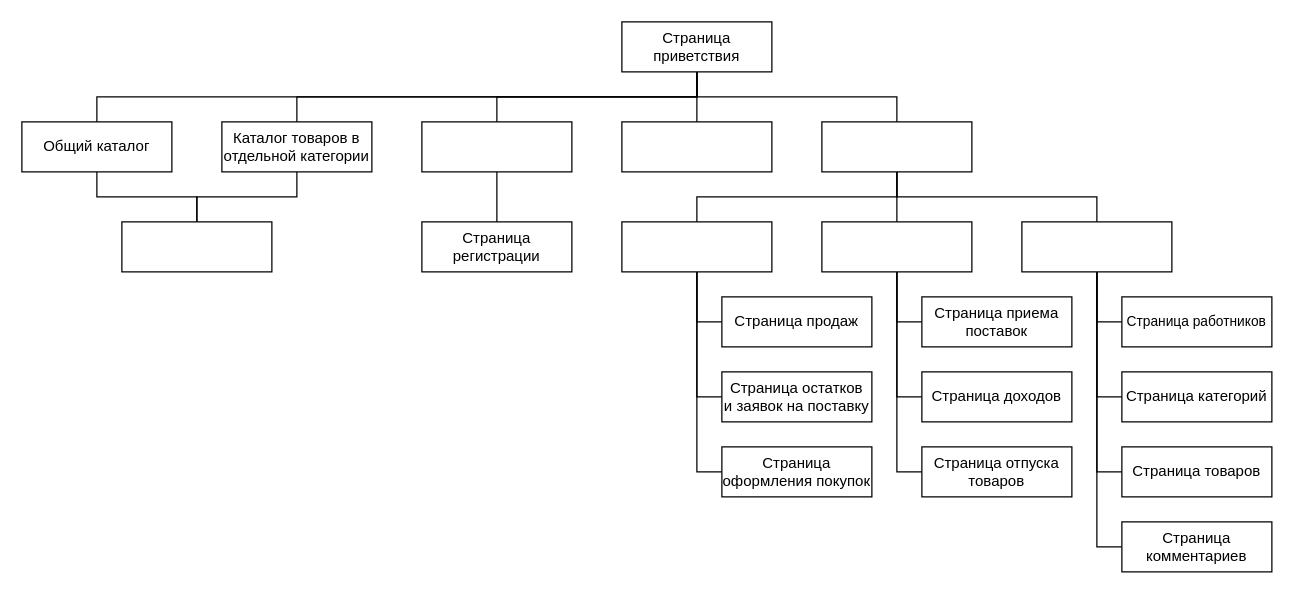
The diagram is 1295 pixels wide and 594 high, and some of its shapes have lost their labels. Here are the shapes that lost their labels. From the top down, the centre of each, then its label:
[496,146]: Страница авторизации
[696,146]: Корзина
[896,146]: Личный кабинет
[196,246]: Страница товара
[696,246]: Панель менеджера
[896,246]: Панель бухгалтера
[1096,246]: Панель администратора
